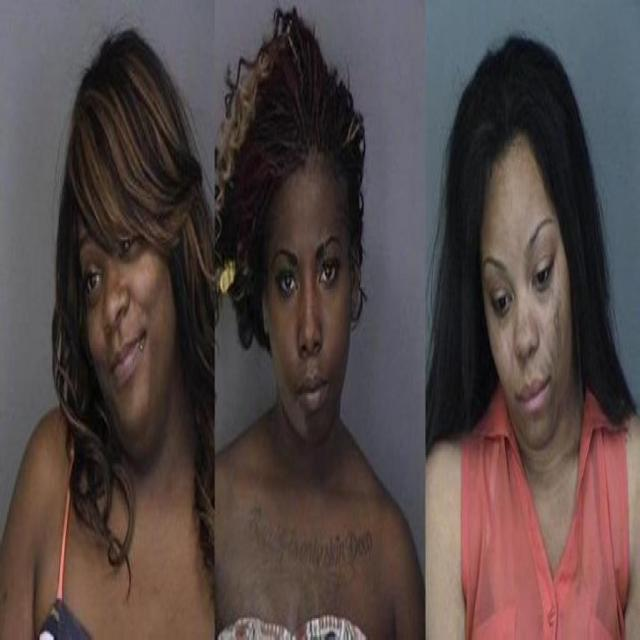nomask: (78, 164, 170, 453), (482, 155, 564, 460), (268, 174, 348, 444)
